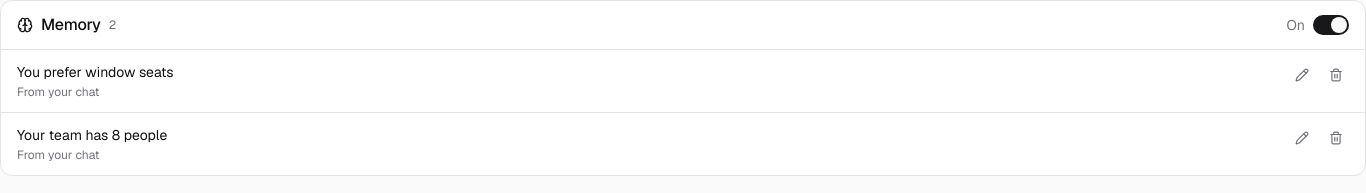
AgentMemory › edits a memory in place: Enter saves, Escape cancels
The image size is (1366, 193).
Click the button named "Edit: You prefer window seats" at (1302, 75), box [1289,62,1315,88]
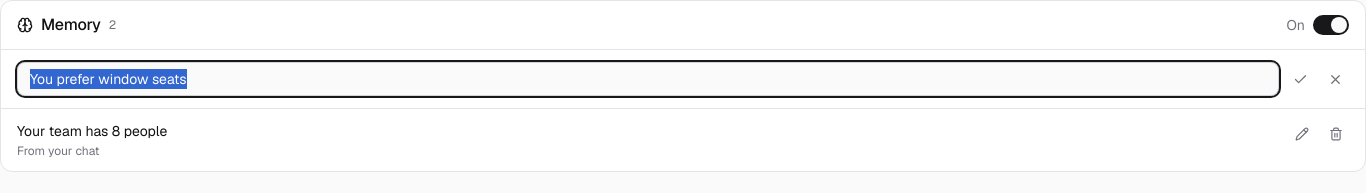
Replace the text in the field named "Edit memory" with "You prefer aisle seats" at (648, 79), box [17,62,1279,96]
Then press Enter
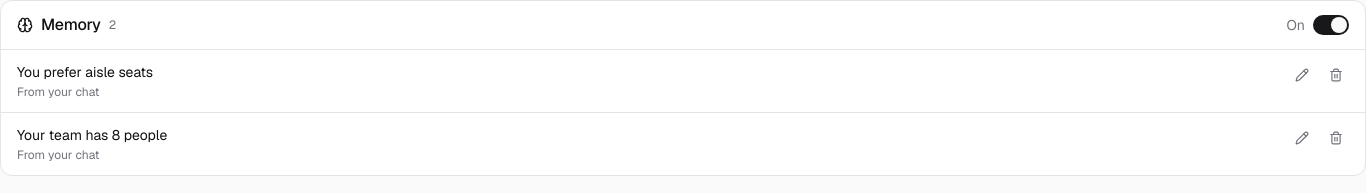
Expected: the text "You prefer aisle seats" is shown, [17,63,153,81]
Click the button named "Edit: You prefer aisle seats" at (1302, 75), box [1289,62,1315,88]
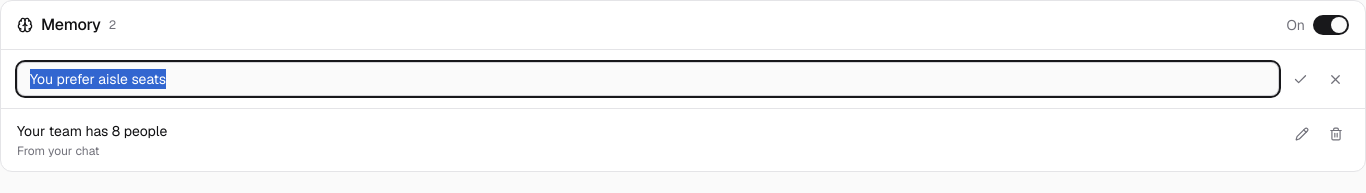
Type " today" into the field named "Edit memory" at (648, 79), box [17,62,1279,96]
Then press Escape
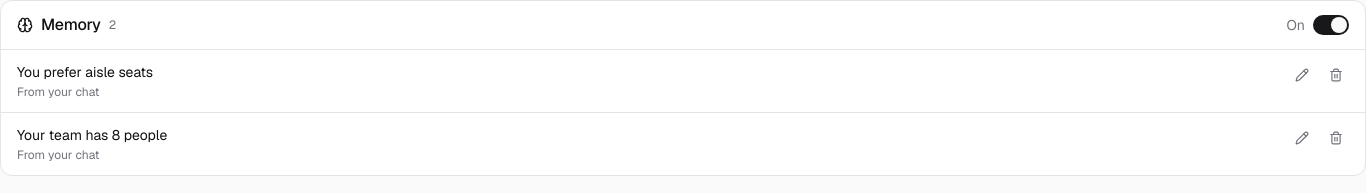
Expected: the text "You prefer aisle seats" is shown, [17,63,153,81]
